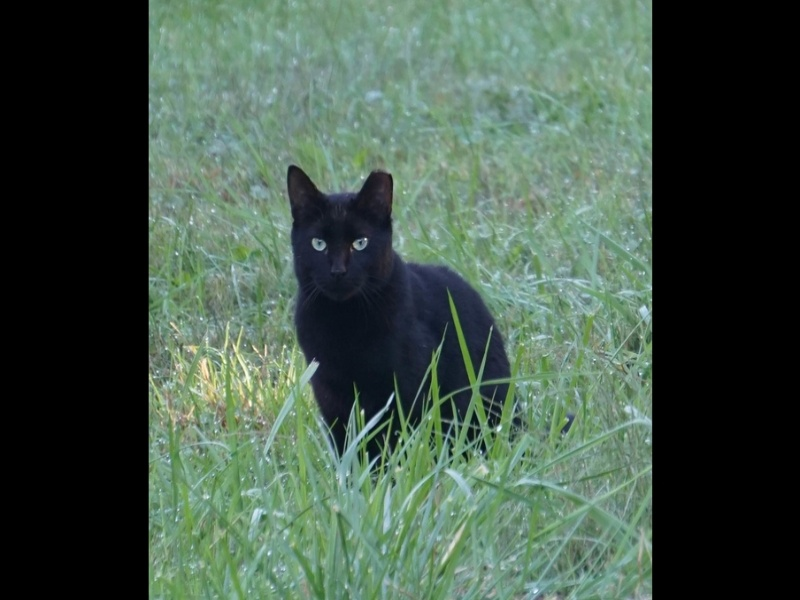cat: (278, 159, 572, 481)
